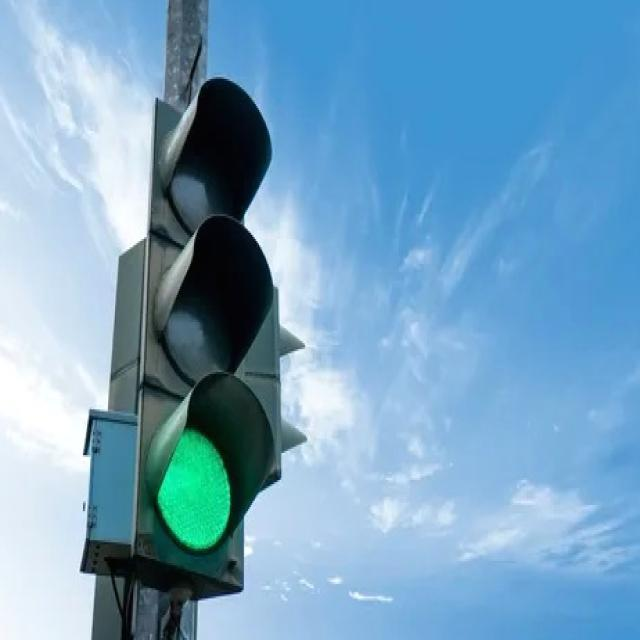yesil: (138, 80, 276, 585)
